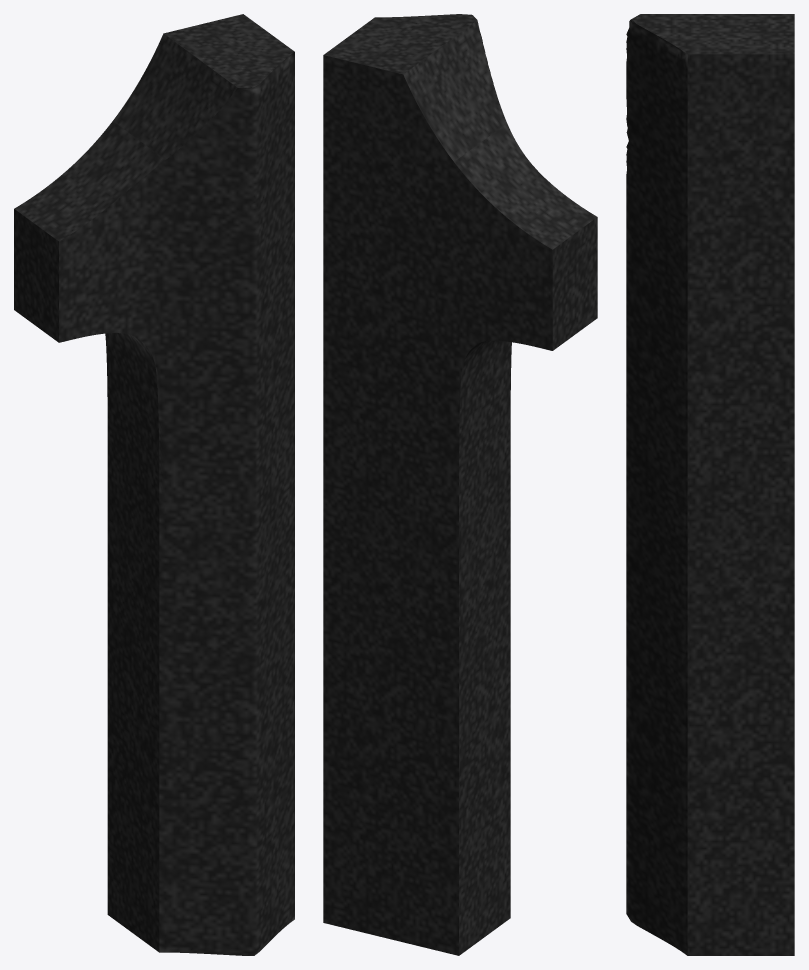
File: digit-1.glb
The picture shows the model from 3 angles, left to right: view 1: azimuth 30°, elevation 25°; view 2: azimuth 150°, elevation 25°; view 3: azimuth 270°, elevation 25°; orthographic projection. The views are drawn at different scales.
Parts seen in each view (by area): view 1: Glyph 1; view 2: Glyph 1; view 3: Glyph 1.
Part boxes in pixels (box(x1,y1,x2,y2)): Glyph 1: box(14, 14, 294, 955); Glyph 1: box(323, 14, 597, 955); Glyph 1: box(626, 14, 794, 955).
Size of the model in its own units: 1.03 by 3.71 by 0.6281.
Materials: 1 (1 with a texture image).
